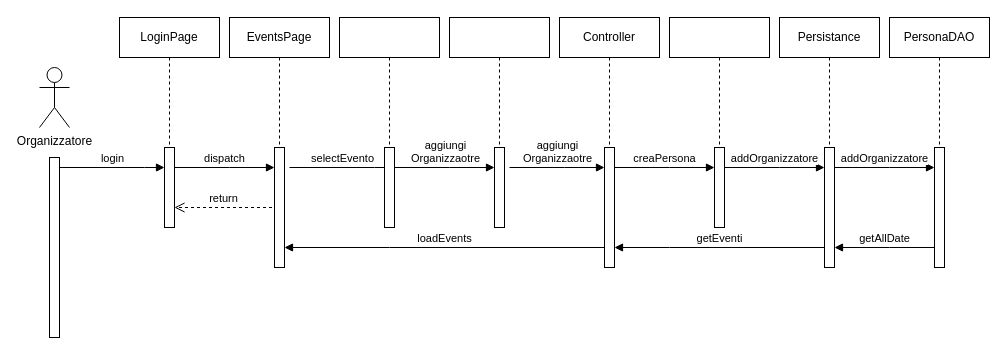
Some shapes in this 1007 by 355 pixel diagram are drawn without their labels. Each missing label, with the centre of its shape:
"AddOrganizzator e Page" belongs at point 499,122.
"MainPage" belongs at point 389,122.
"Model" belongs at point 719,122.
